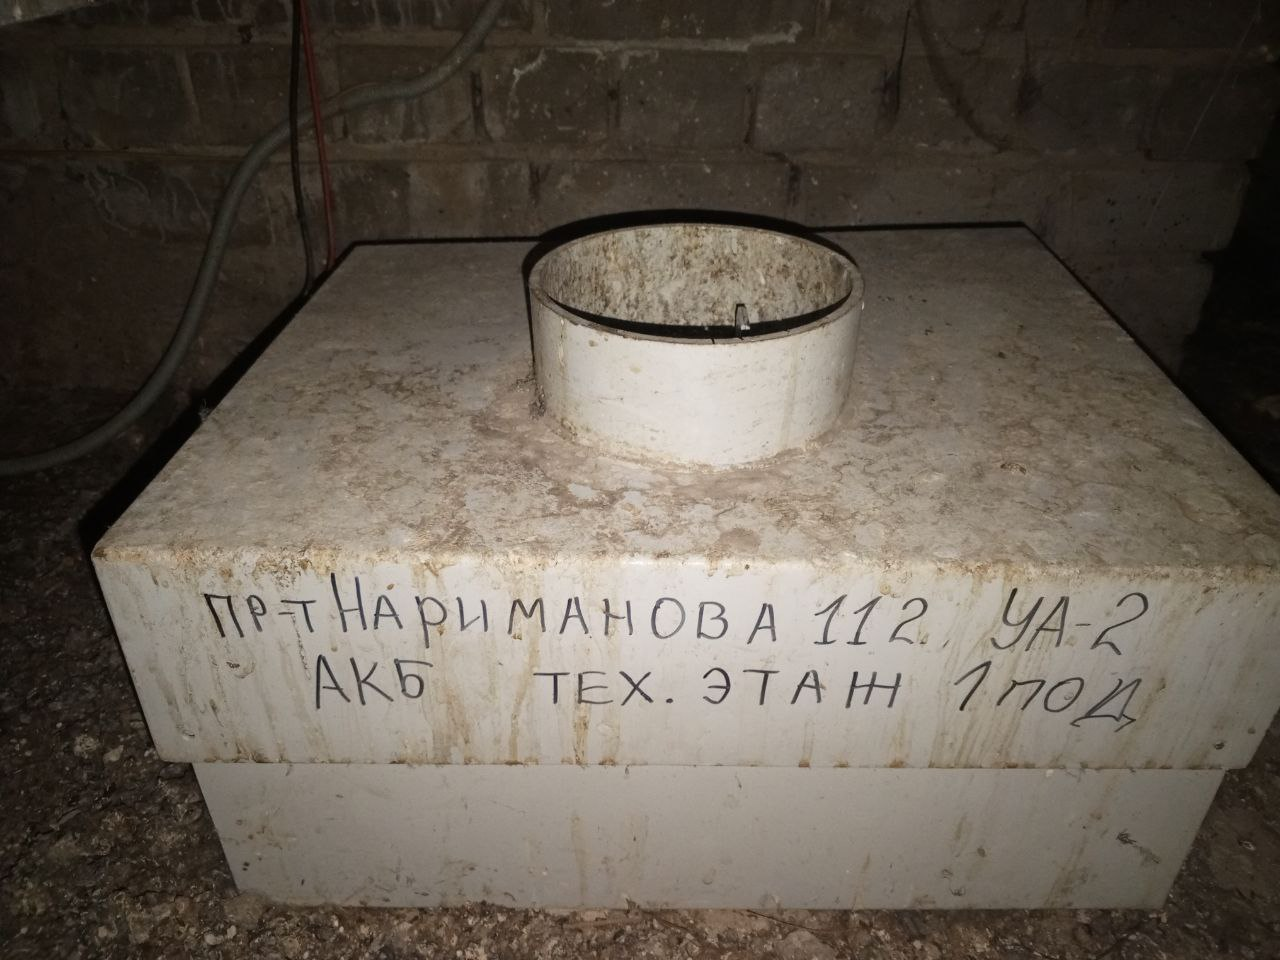shta-ps: (81, 200, 1262, 911)
